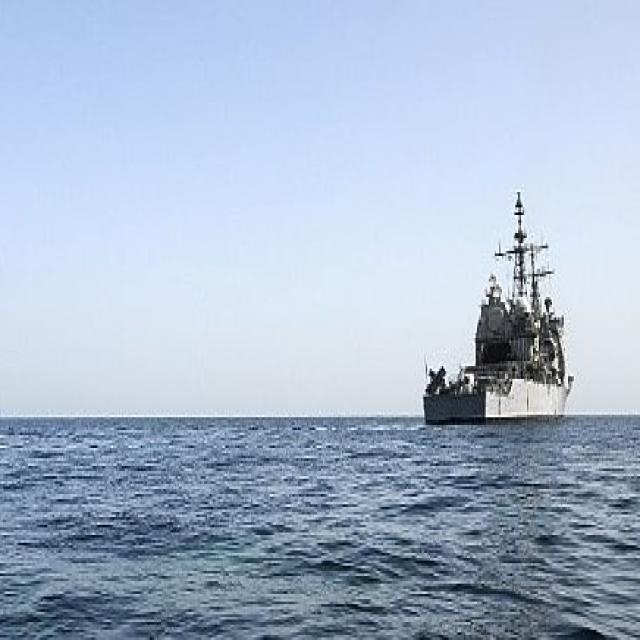navalvessels: (418, 201, 590, 428)
